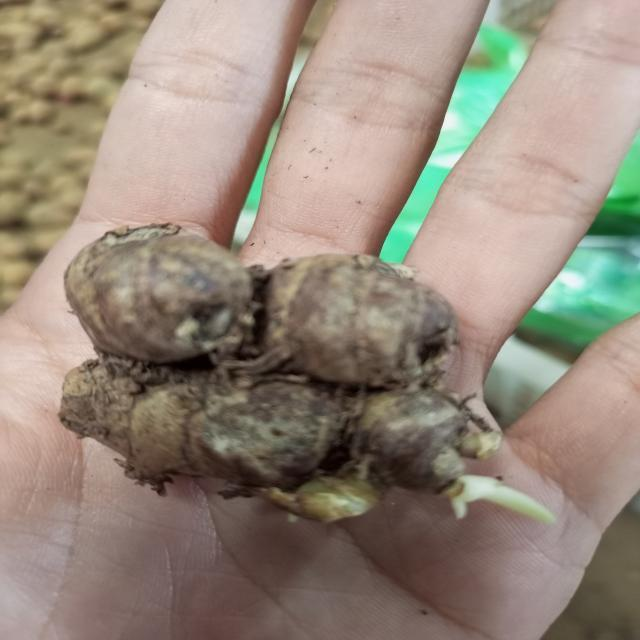ginger: (59, 224, 482, 506)
